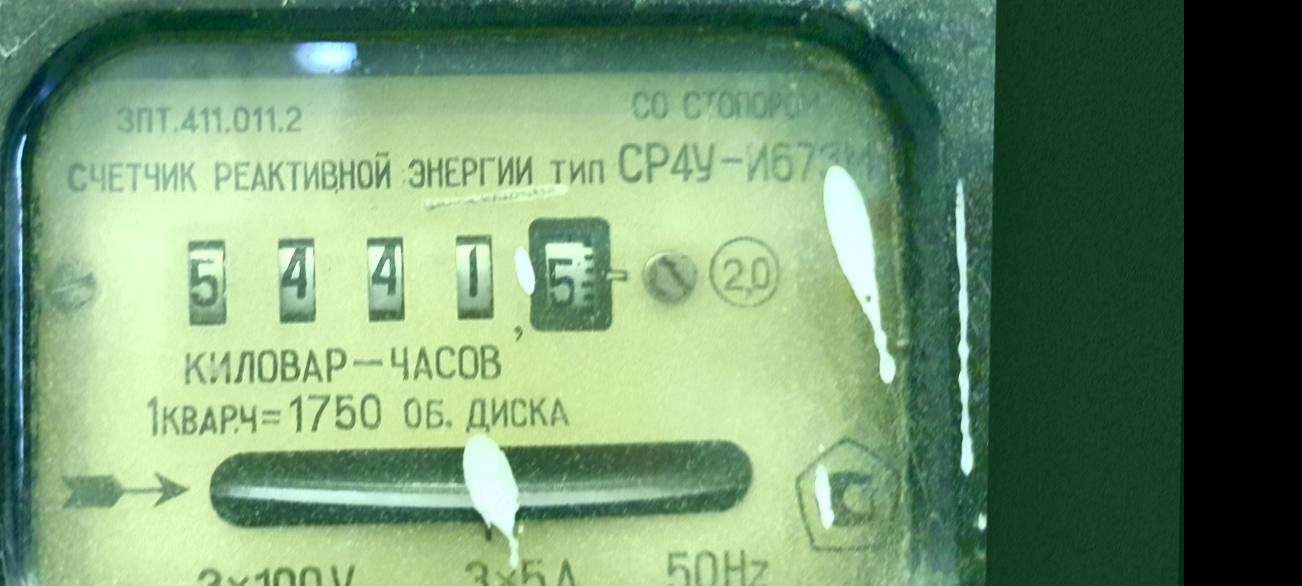1: (460, 243, 485, 302)
4: (365, 238, 403, 304), (277, 242, 314, 304)
5: (544, 251, 580, 314), (185, 254, 224, 311)
screen: (162, 188, 638, 362)
